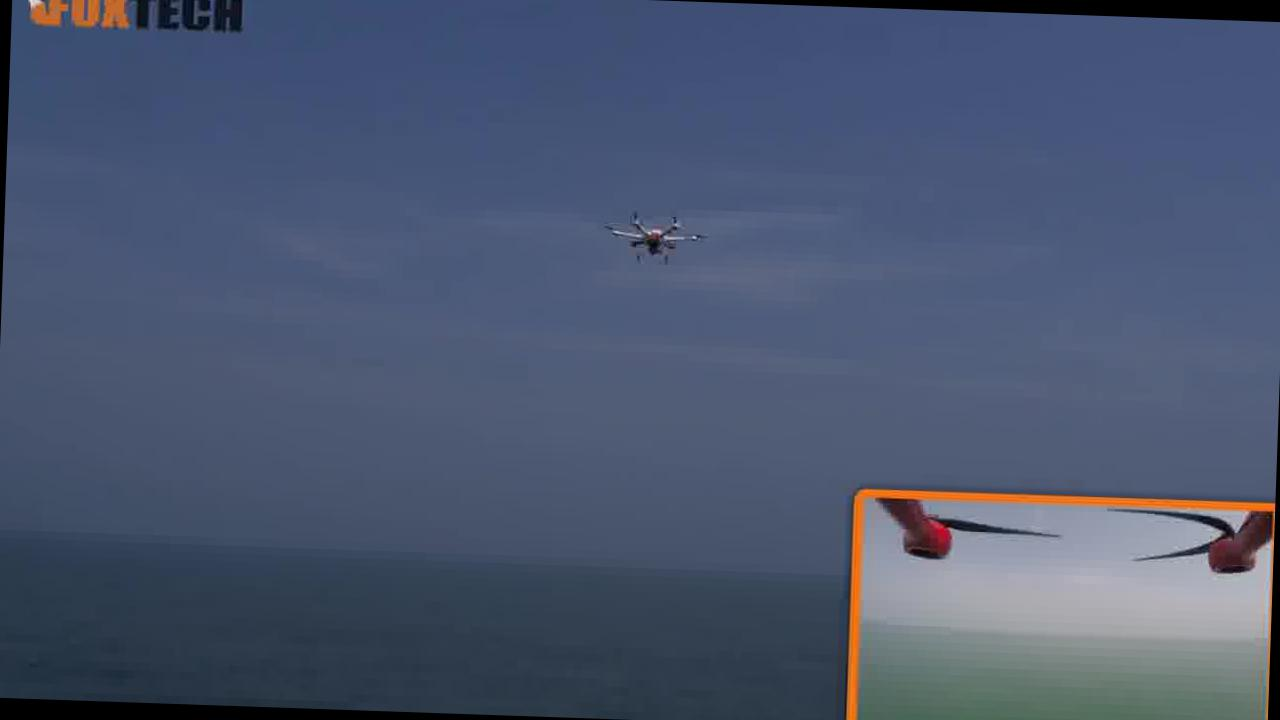drone: (600, 192, 701, 283)
